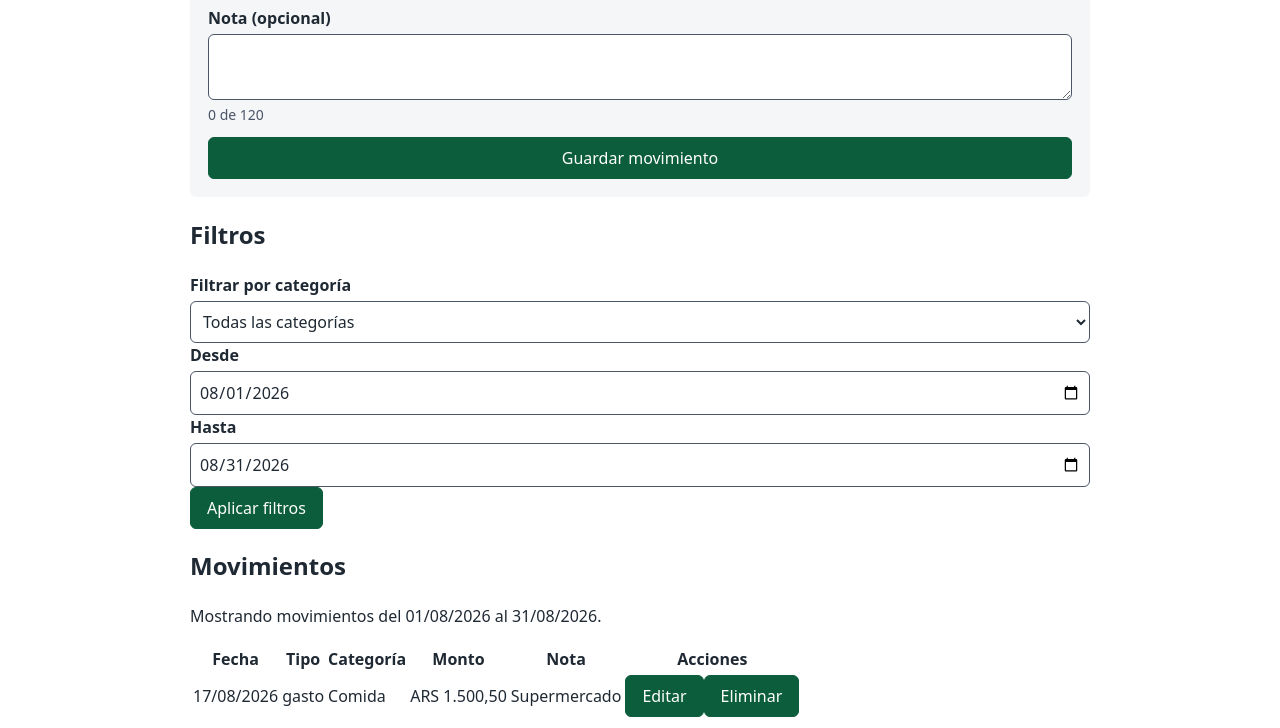
App › Editar_GuardaYActualizaLaFila
This screenshot has width=1280, height=728.
(page scrolled)
Expected: the text "ARS 1.500,50" is shown, x1=409 y1=674 x2=508 y2=718
Click the button with aria-label "Editar el movimiento del 17/08/2026 de Comida" at (664, 696), box x1=625 y1=675 x2=704 y2=717
(page scrolled)
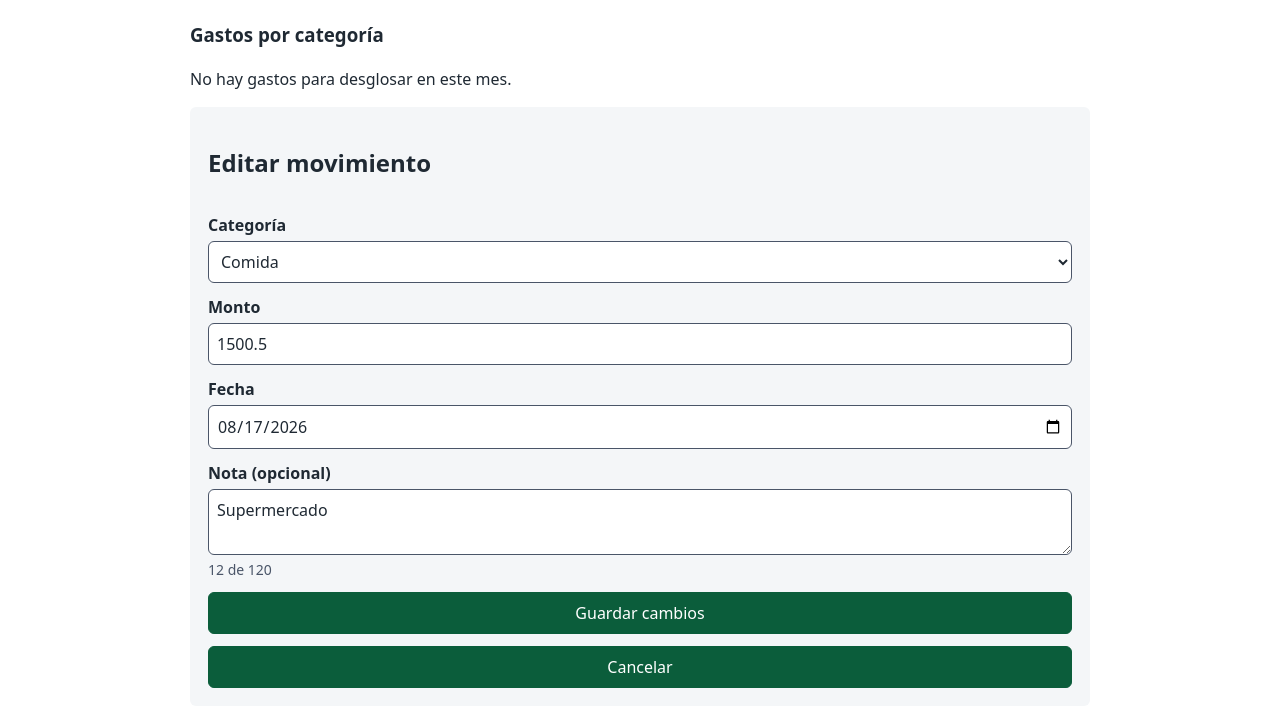
Expected: the heading "Editar movimiento" is shown, x1=208 y1=146 x2=431 y2=179
Expected: the field labelled "Monto" holds "1500.5"
Expected: the text box labelled "Nota (opcional)" holds "Supermercado", x1=208 y1=489 x2=1072 y2=555
Replace the text in the field labelled "Monto" with "2000" at (640, 344), box x1=208 y1=323 x2=1072 y2=365
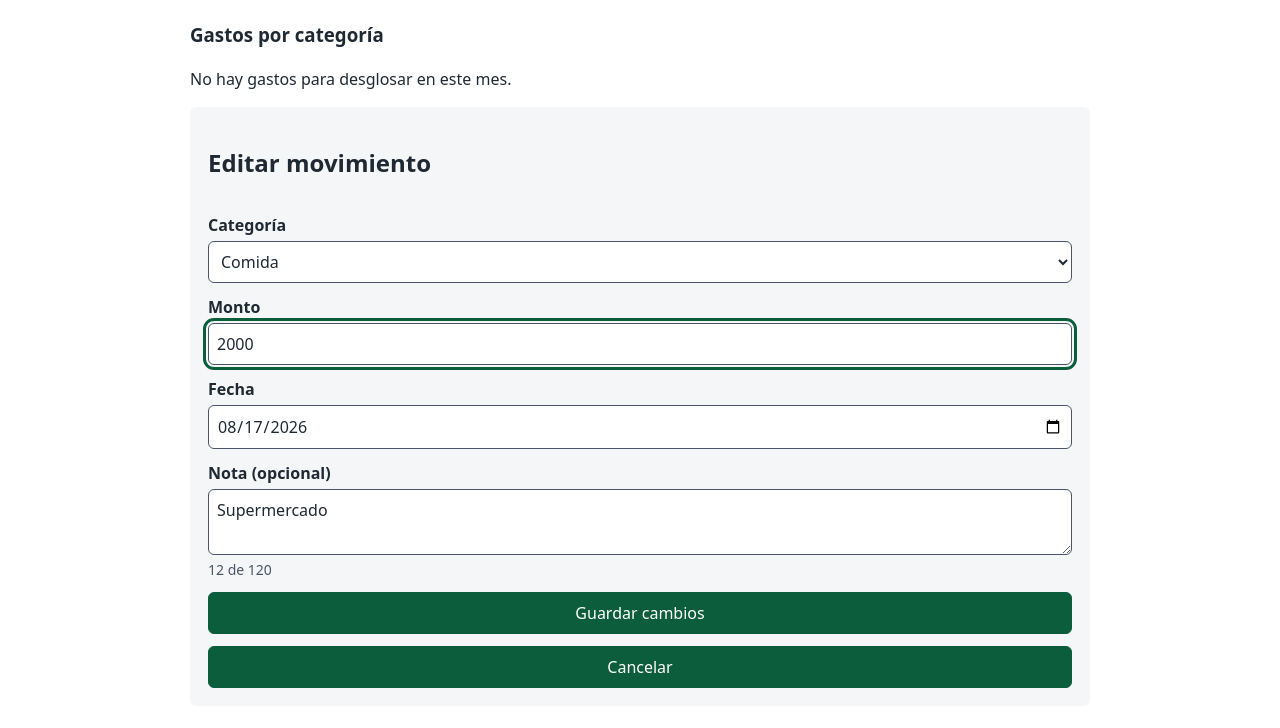
Replace the text in the text box labelled "Nota (opcional)" with "Cena" at (640, 522), box x1=208 y1=489 x2=1072 y2=555
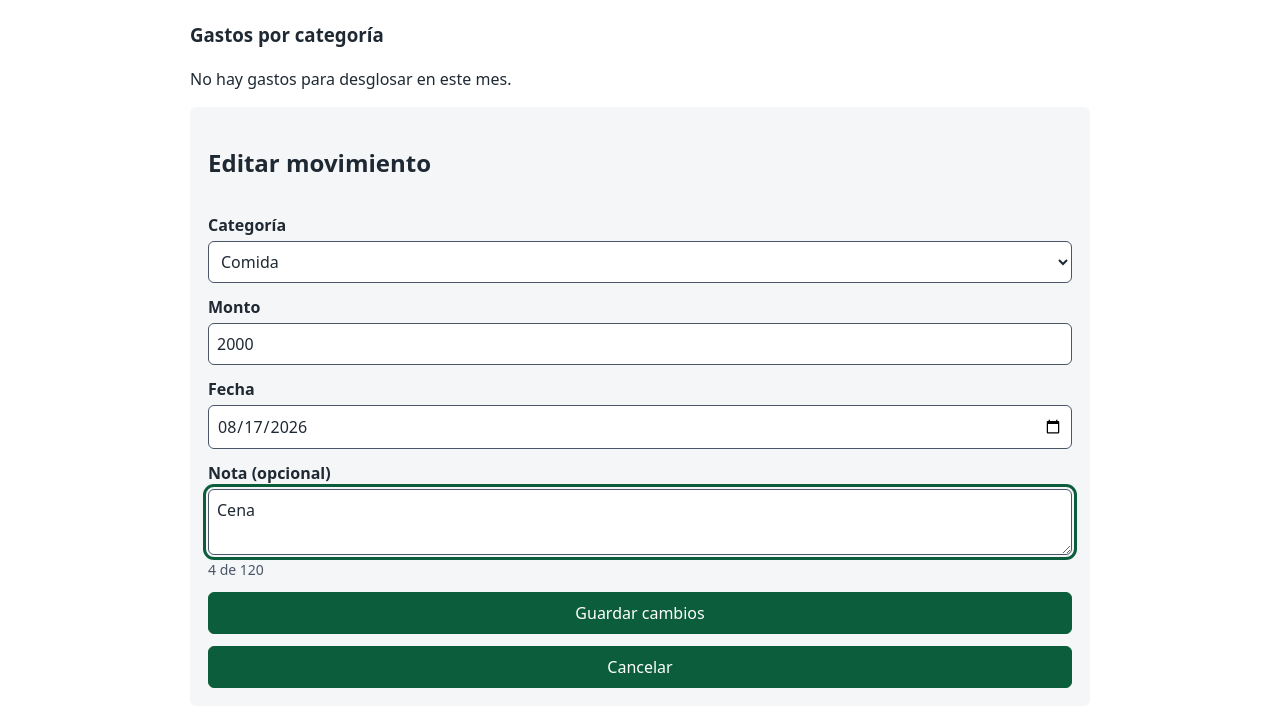
Click the button "Guardar cambios" at (640, 613), box x1=208 y1=592 x2=1072 y2=634
(page scrolled)
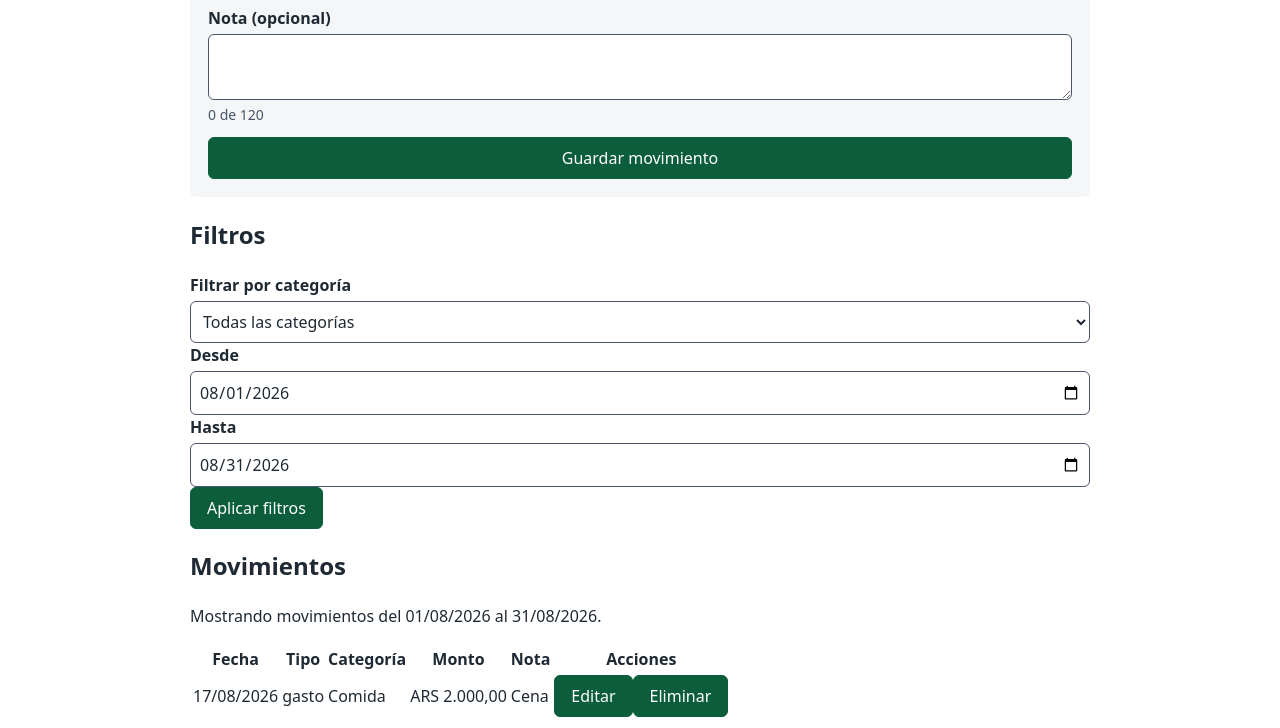
Expected: the text "ARS 2.000,00" is shown, x1=409 y1=674 x2=508 y2=718
Expected: the text "Cena" is shown, x1=510 y1=674 x2=551 y2=718
